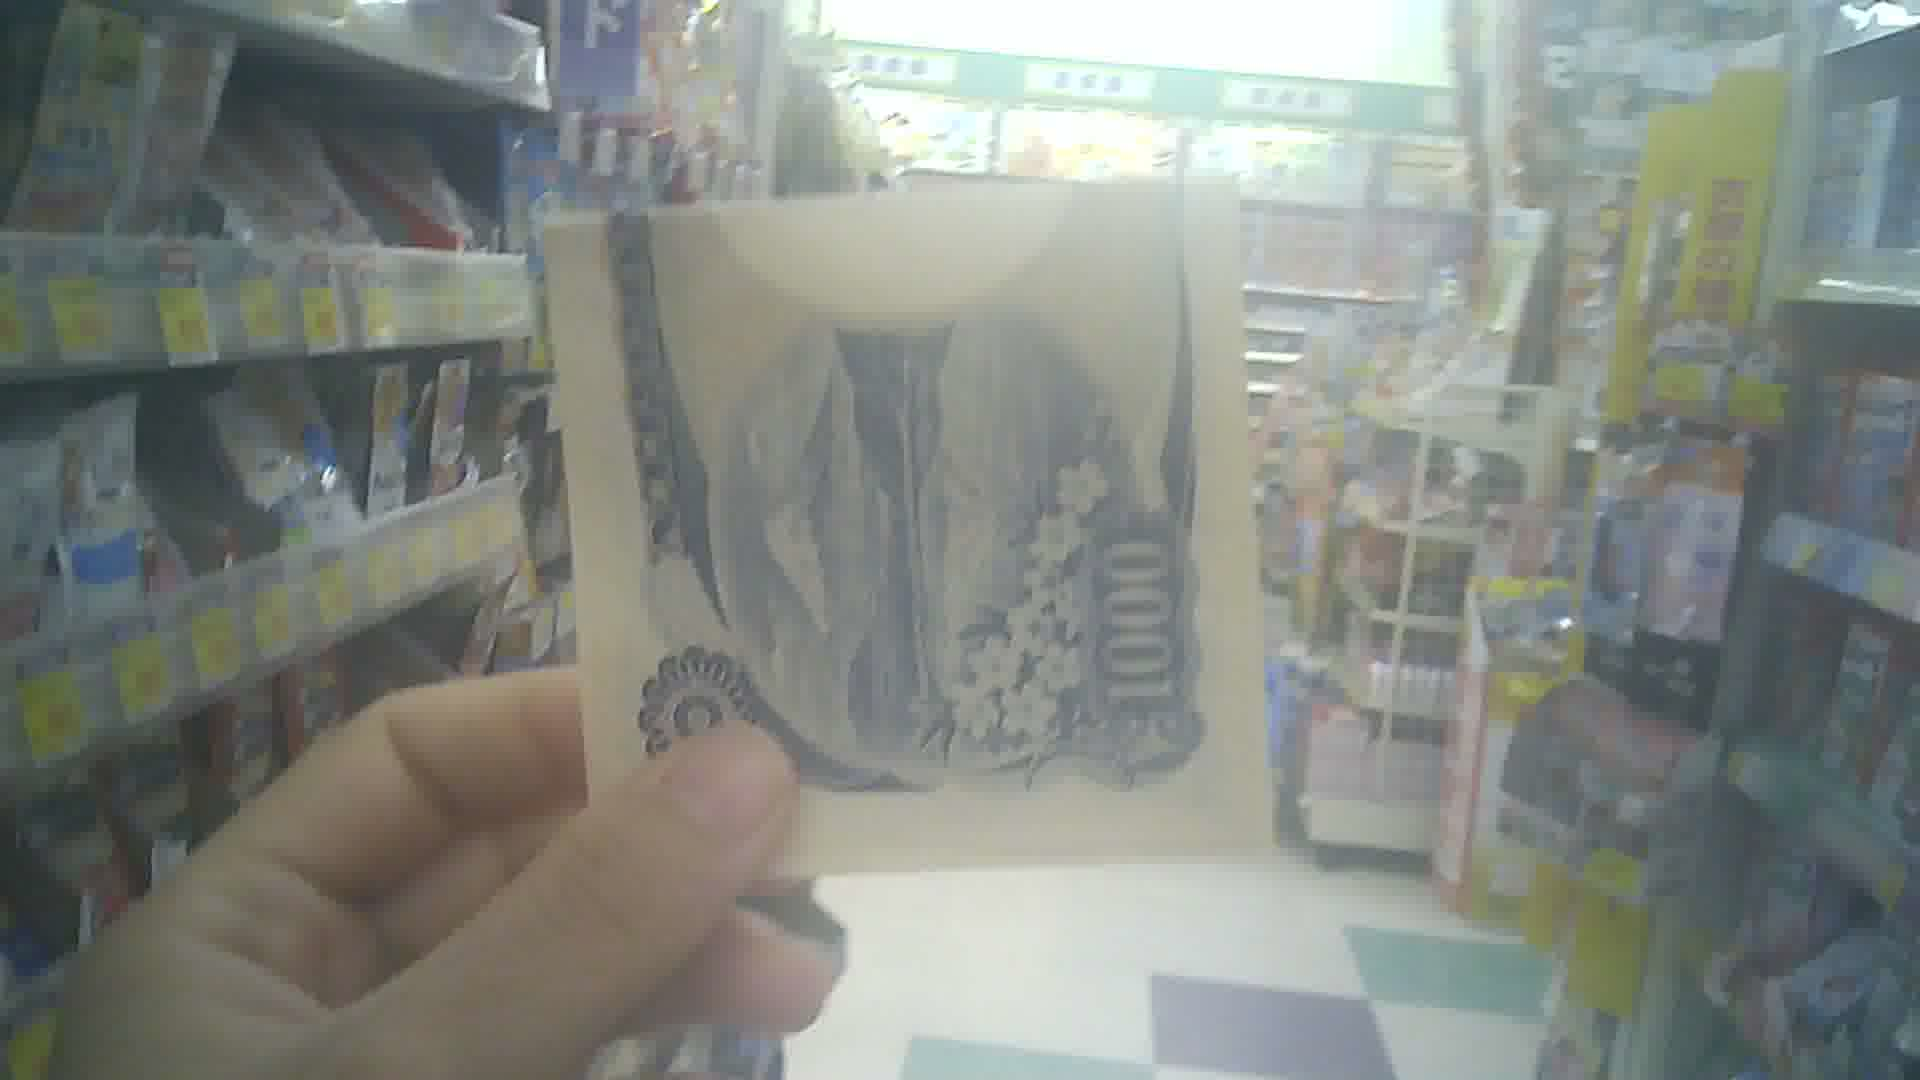1,000 Yen: (529, 178, 1287, 927)
